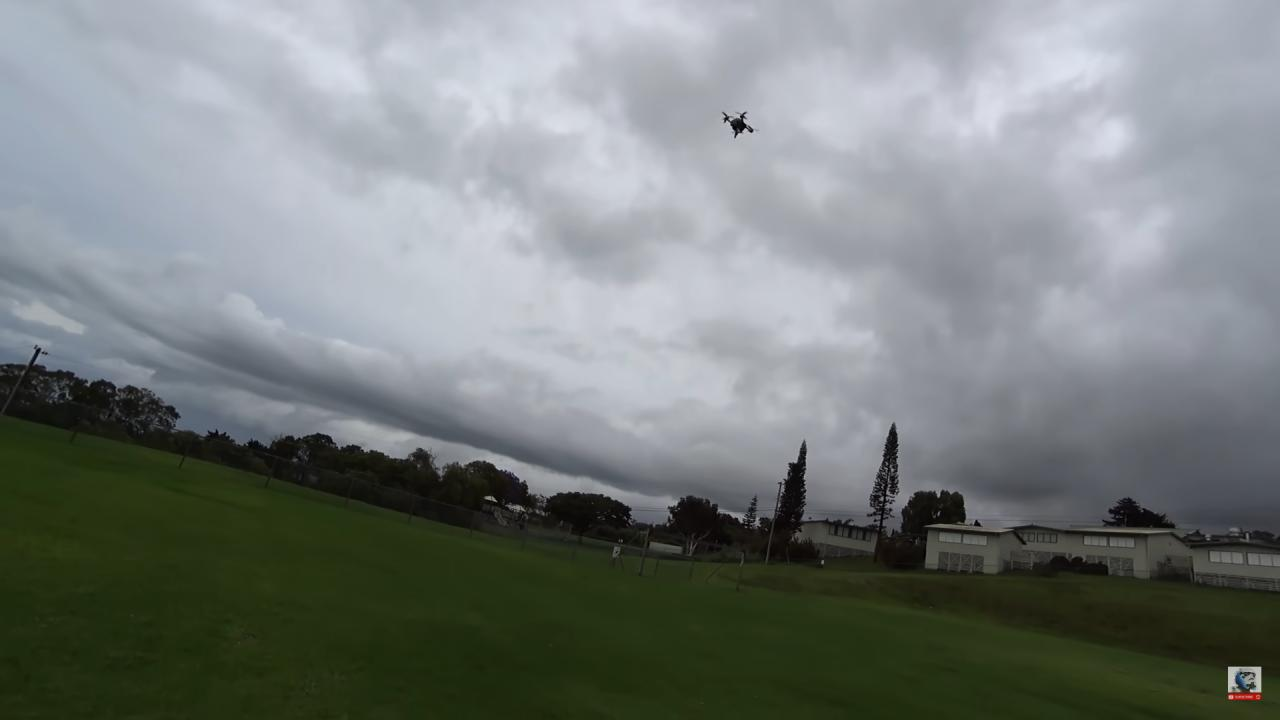Drone: (714, 105, 762, 145)
